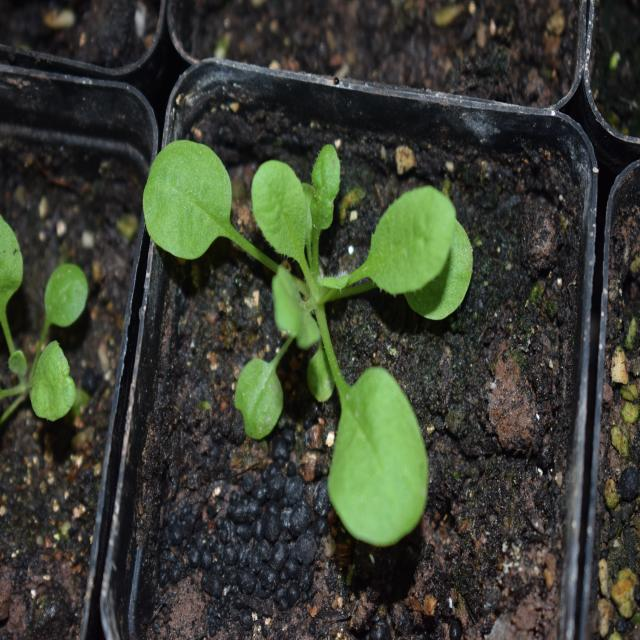Shepherd_Purse: (134, 126, 464, 530)
